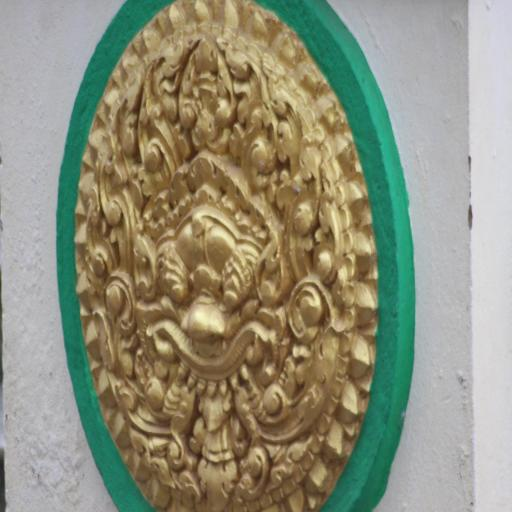la: (143, 425, 268, 512), (270, 126, 336, 272), (280, 275, 340, 414), (138, 46, 188, 190), (183, 40, 233, 154), (85, 234, 132, 354), (94, 351, 148, 447), (234, 60, 276, 174), (263, 411, 318, 492), (106, 120, 133, 260)
